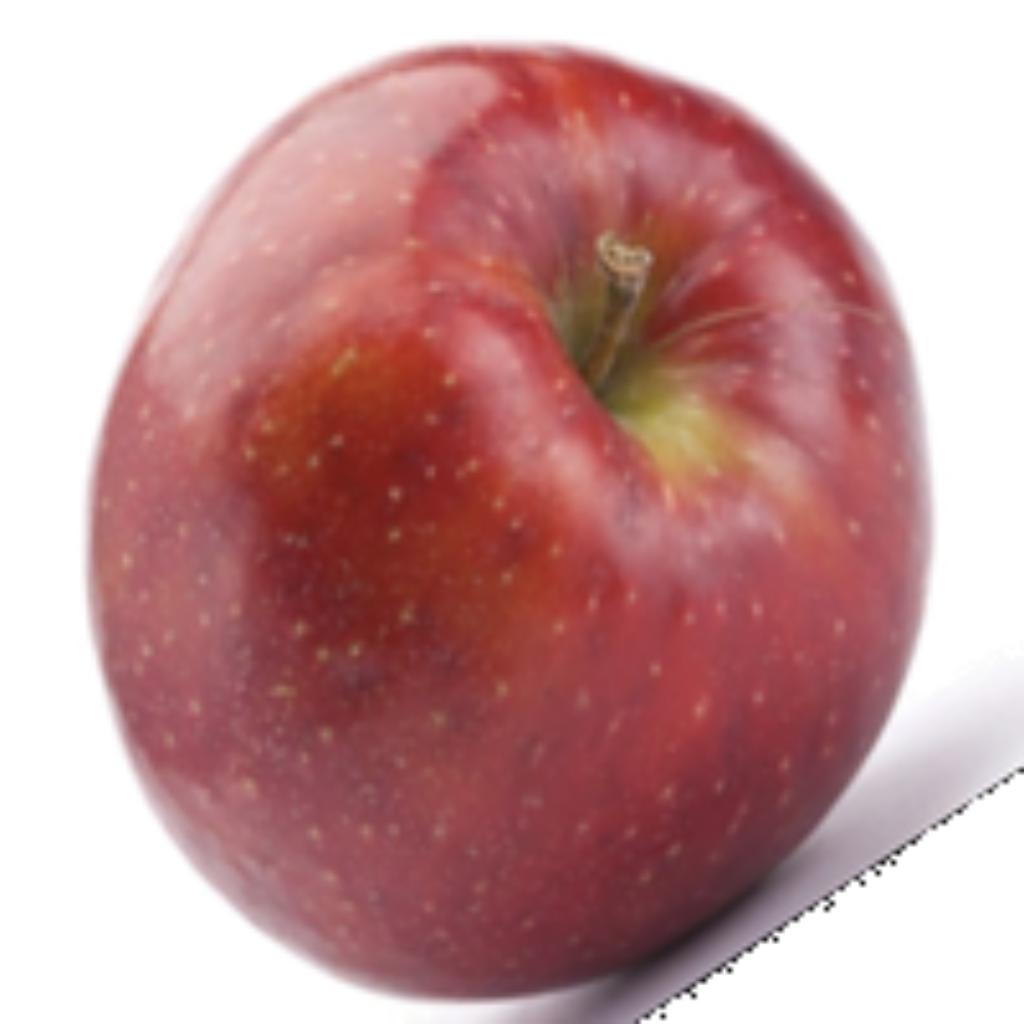apple: (77, 31, 1019, 1019)
